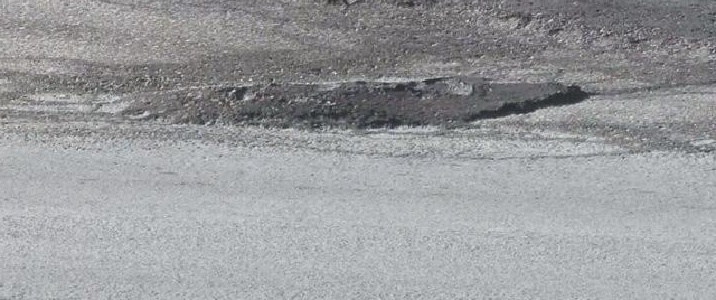pothole: (119, 75, 596, 141)
